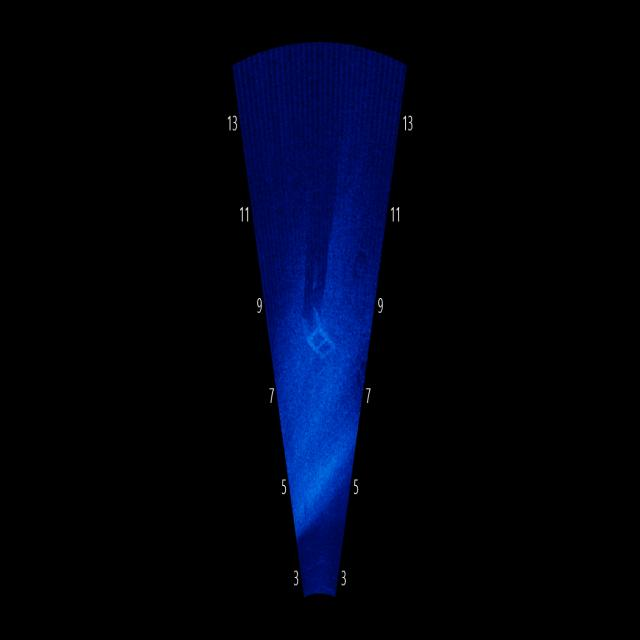square: (299, 289, 346, 382)
